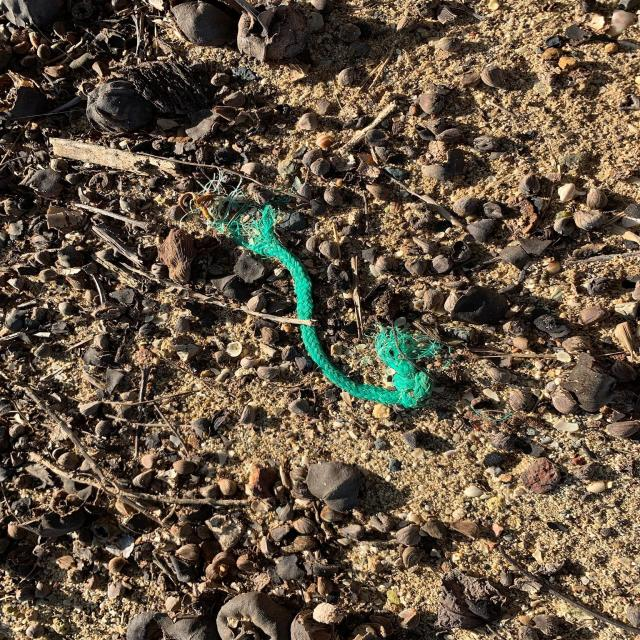litter: (239, 215, 431, 408)
